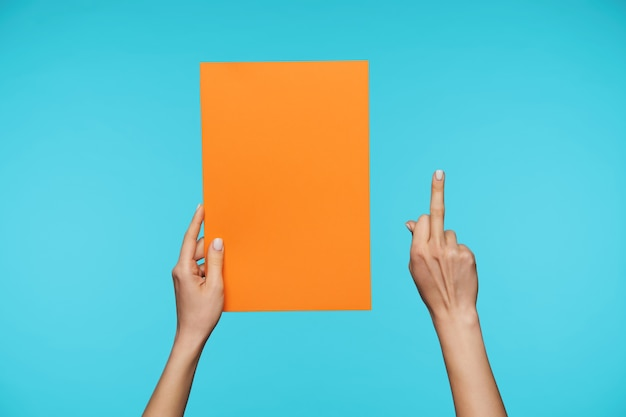insulting_gesture: (401, 167, 483, 314)
